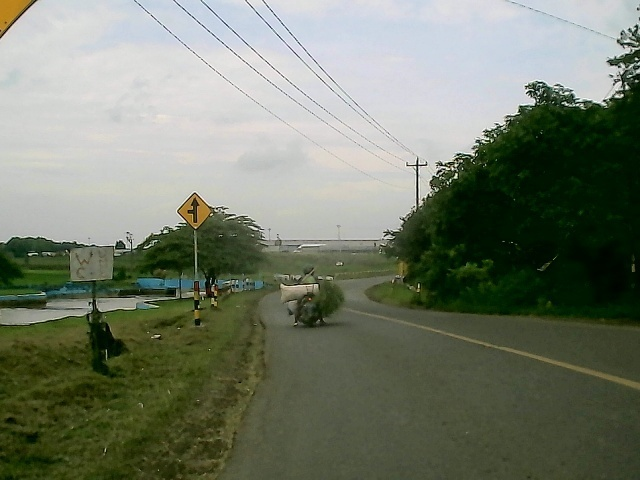Simpang kiri dengan prioritas: (176, 189, 214, 231)
